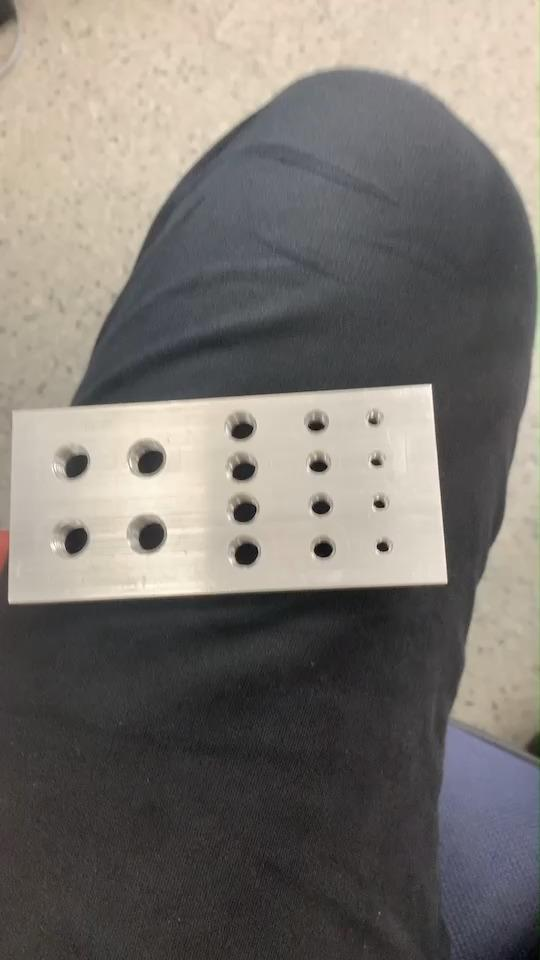hole: (49, 442, 93, 487), (127, 509, 170, 554), (126, 436, 168, 478), (49, 518, 89, 560), (222, 409, 258, 444), (227, 536, 264, 569), (224, 450, 260, 482), (226, 494, 261, 526), (304, 408, 334, 435), (306, 492, 336, 519), (306, 450, 335, 477), (311, 538, 338, 564), (364, 408, 387, 431), (366, 450, 388, 472), (370, 494, 390, 516), (376, 538, 395, 560)
